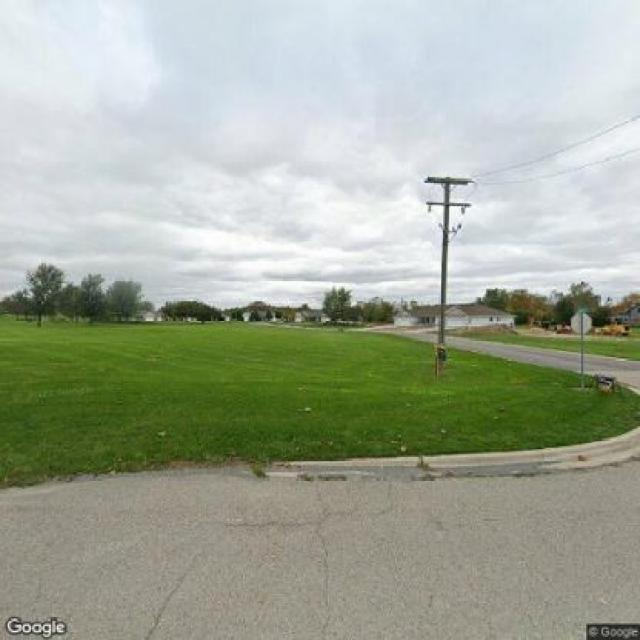pole: (415, 168, 476, 368)
